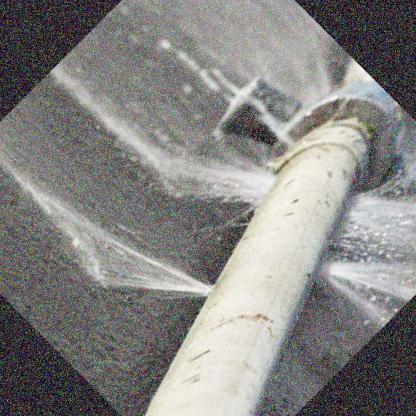burst: (318, 189, 373, 293), (241, 163, 298, 230), (199, 274, 238, 317)
